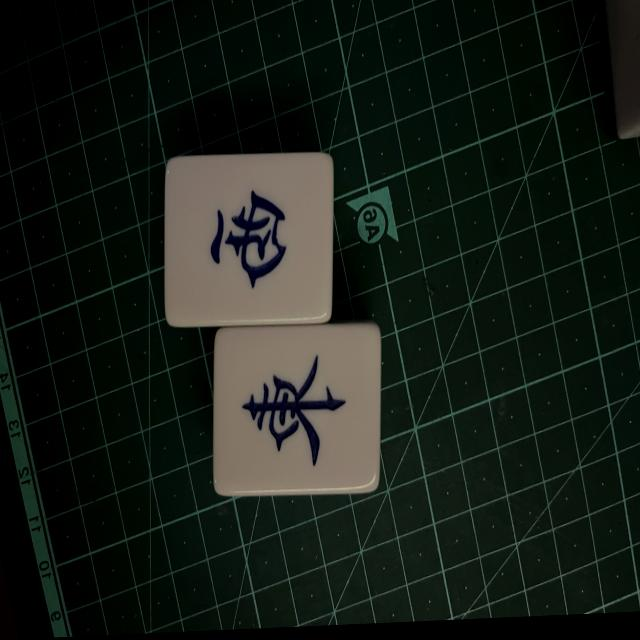east: (215, 323, 372, 493)
west: (172, 157, 330, 318)
